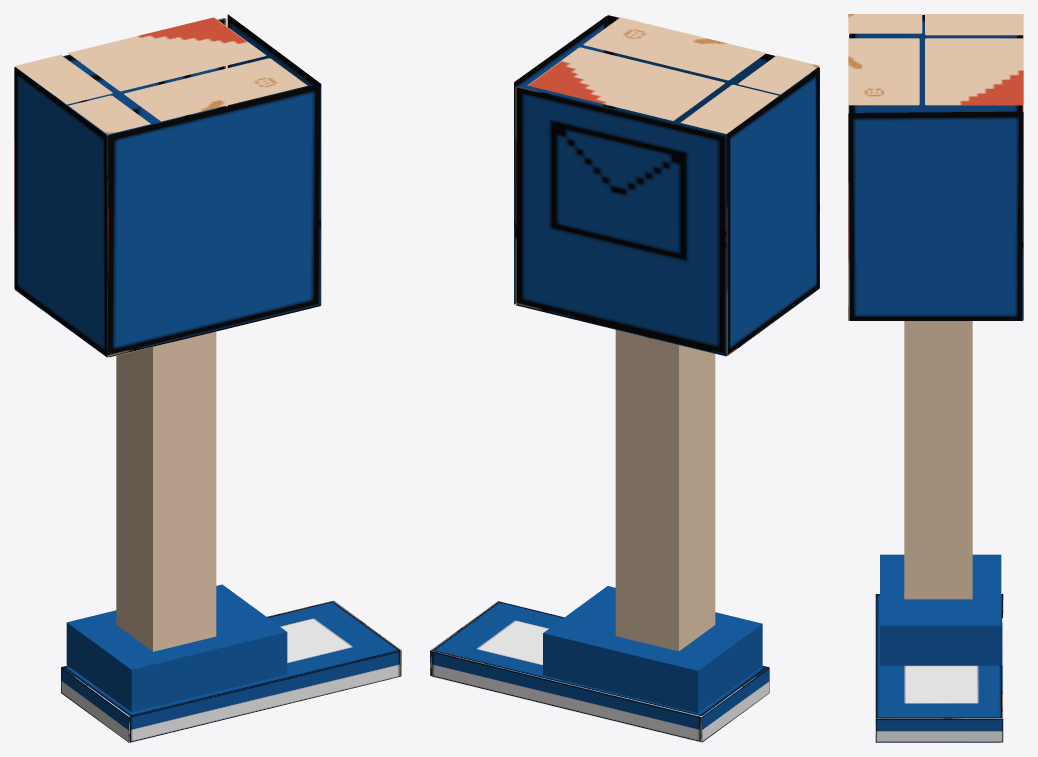
The model's file is phineas_rightleg.obj.
The picture shows the model from 3 angles, left to right: view 1: azimuth 30°, elevation 25°; view 2: azimuth 150°, elevation 25°; view 3: azimuth 270°, elevation 25°; orthographic projection. The views are drawn at different scales.
Visible parts, largest first — view 1: Cube_052_Cube_083, Cube_003_Cube_080, Cube_005_Cube_082, Cube_004_Cube_081; view 2: Cube_052_Cube_083, Cube_003_Cube_080, Cube_005_Cube_082, Cube_004_Cube_081; view 3: Cube_052_Cube_083, Cube_003_Cube_080, Cube_004_Cube_081, Cube_005_Cube_082.
Part boxes in pixels (x1,y1,x2,y2): Cube_052_Cube_083: (14, 14, 321, 357); Cube_003_Cube_080: (116, 331, 216, 651); Cube_005_Cube_082: (61, 601, 401, 742); Cube_004_Cube_081: (66, 584, 287, 712); Cube_052_Cube_083: (514, 15, 819, 356); Cube_003_Cube_080: (615, 330, 715, 651); Cube_005_Cube_082: (430, 601, 769, 742); Cube_004_Cube_081: (543, 586, 762, 713); Cube_052_Cube_083: (848, 14, 1023, 320); Cube_003_Cube_080: (904, 321, 972, 599); Cube_004_Cube_081: (880, 554, 1001, 665); Cube_005_Cube_082: (875, 594, 1003, 742).
Bounding box in the file's own units: 11.1 × 21.57 × 5.83.
